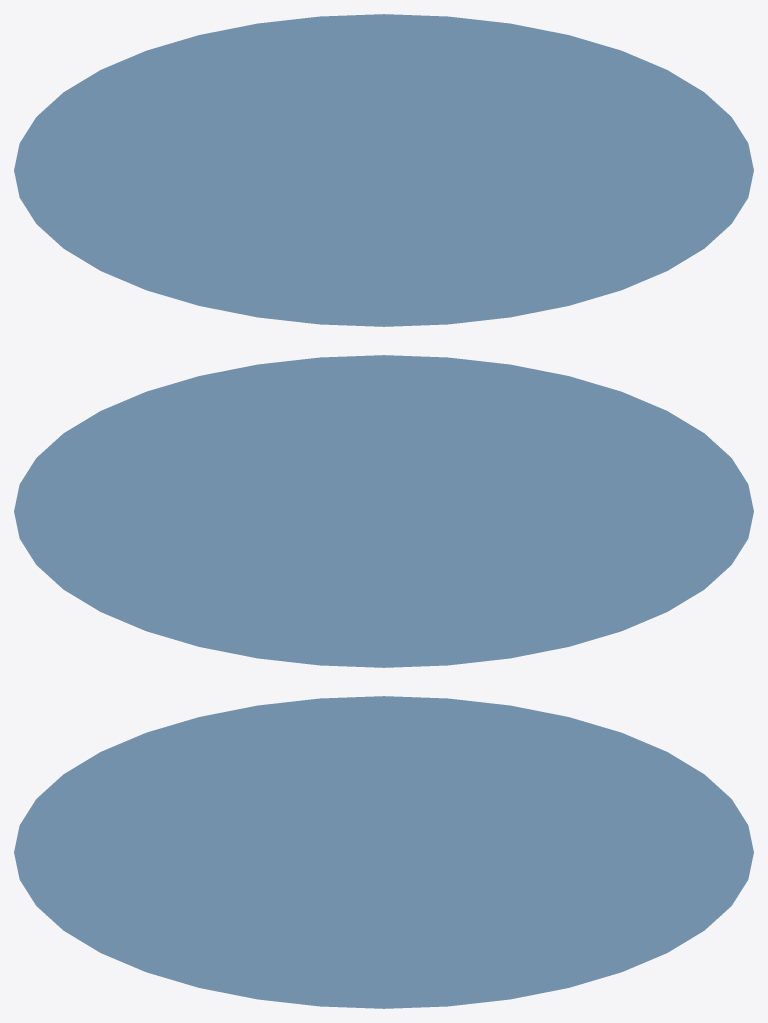
File: water_highland.glb
3 views of the same model, one above another, from view 1: azimuth 30°, elevation 25°; view 2: azimuth 150°, elevation 25°; view 3: azimuth 270°, elevation 25° (orthographic).
Parts seen in each view (by area): view 1: water_spring; view 2: water_spring; view 3: water_spring.
Boxes of the visible parts, x1,y1,x2,y2 form: water_spring: (14,14,753,326); water_spring: (14,355,753,667); water_spring: (14,696,753,1008).
Size of what is drawn, in the model's own units: 0.92 by 0 by 0.92.
